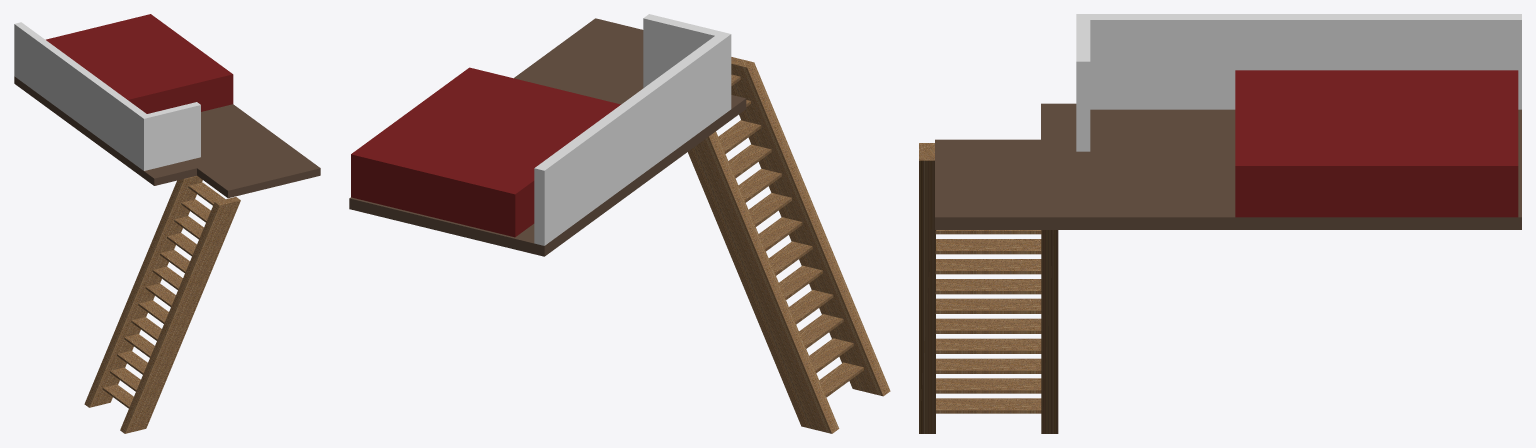
File: Dach_Hochbett.glb
The picture shows the model from 3 angles, left to right: view 1: azimuth 30°, elevation 25°; view 2: azimuth 150°, elevation 25°; view 3: azimuth 270°, elevation 25°; orthographic projection. The views are drawn at different scales.
Visible parts, largest first — view 1: Curve.025, Curve.026, Curve.031, Curve.035, _Curve.002, Curve.032, Curve.027; view 2: Curve.026, Curve.025, Curve.031, Curve.035, _Curve.002, Curve.027, Curve.032; view 3: Curve.026, Curve.035, Curve.031, _Curve.002, Curve.025, Curve.027, Curve.032.
Boxes of the visible parts, left/top/right/bottom form: Curve.025: left=84, top=176, right=240, bottom=433; Curve.026: left=46, top=14, right=233, bottom=113; Curve.031: left=14, top=22, right=150, bottom=170; Curve.035: left=187, top=104, right=320, bottom=198; _Curve.002: left=102, top=182, right=225, bottom=408; Curve.032: left=147, top=102, right=200, bottom=169; Curve.027: left=14, top=76, right=196, bottom=185; Curve.026: left=351, top=67, right=620, bottom=237; Curve.025: left=688, top=57, right=890, bottom=433; Curve.031: left=534, top=31, right=731, bottom=245; Curve.035: left=349, top=18, right=643, bottom=241; _Curve.002: left=718, top=74, right=863, bottom=397; Curve.027: left=483, top=95, right=746, bottom=256; Curve.032: left=643, top=14, right=720, bottom=87; Curve.026: left=1235, top=70, right=1518, bottom=217; Curve.035: left=935, top=139, right=1521, bottom=229; Curve.031: left=1076, top=14, right=1521, bottom=109; _Curve.002: left=935, top=230, right=1041, bottom=413; Curve.025: left=919, top=143, right=1058, bottom=433; Curve.027: left=1041, top=103, right=1521, bottom=139; Curve.032: left=1076, top=20, right=1090, bottom=151.
Size of the model in its own units: 2.81 by 3.56 by 4.26.
3 materials, 1 textured.
